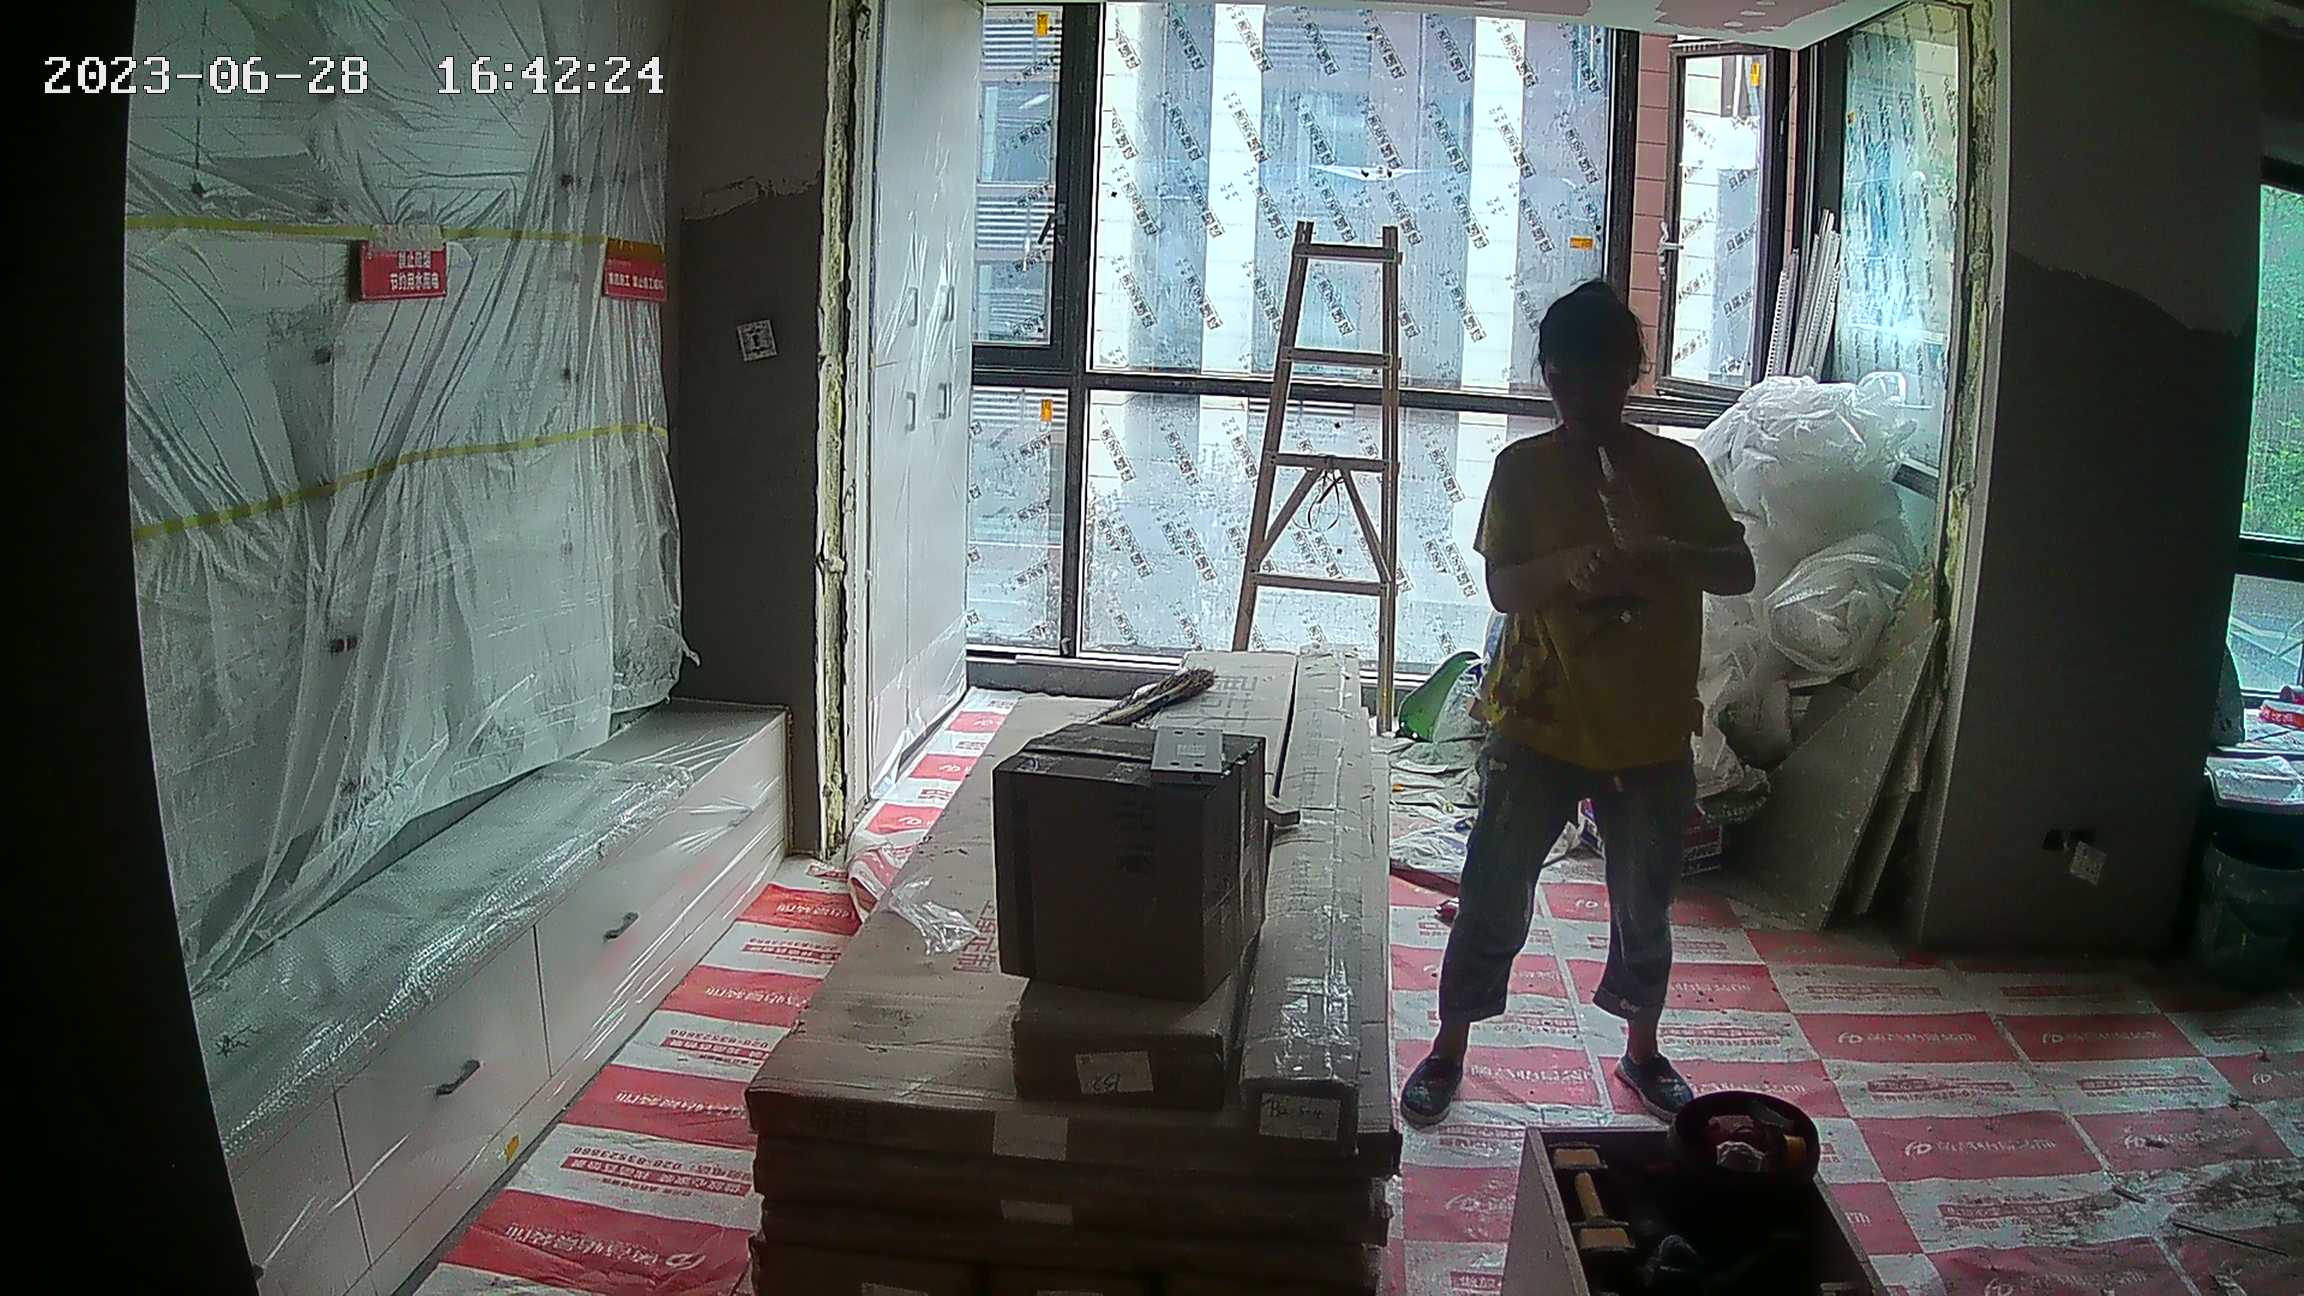people: (1392, 284, 1759, 1136)
window: (959, 15, 1966, 653)
